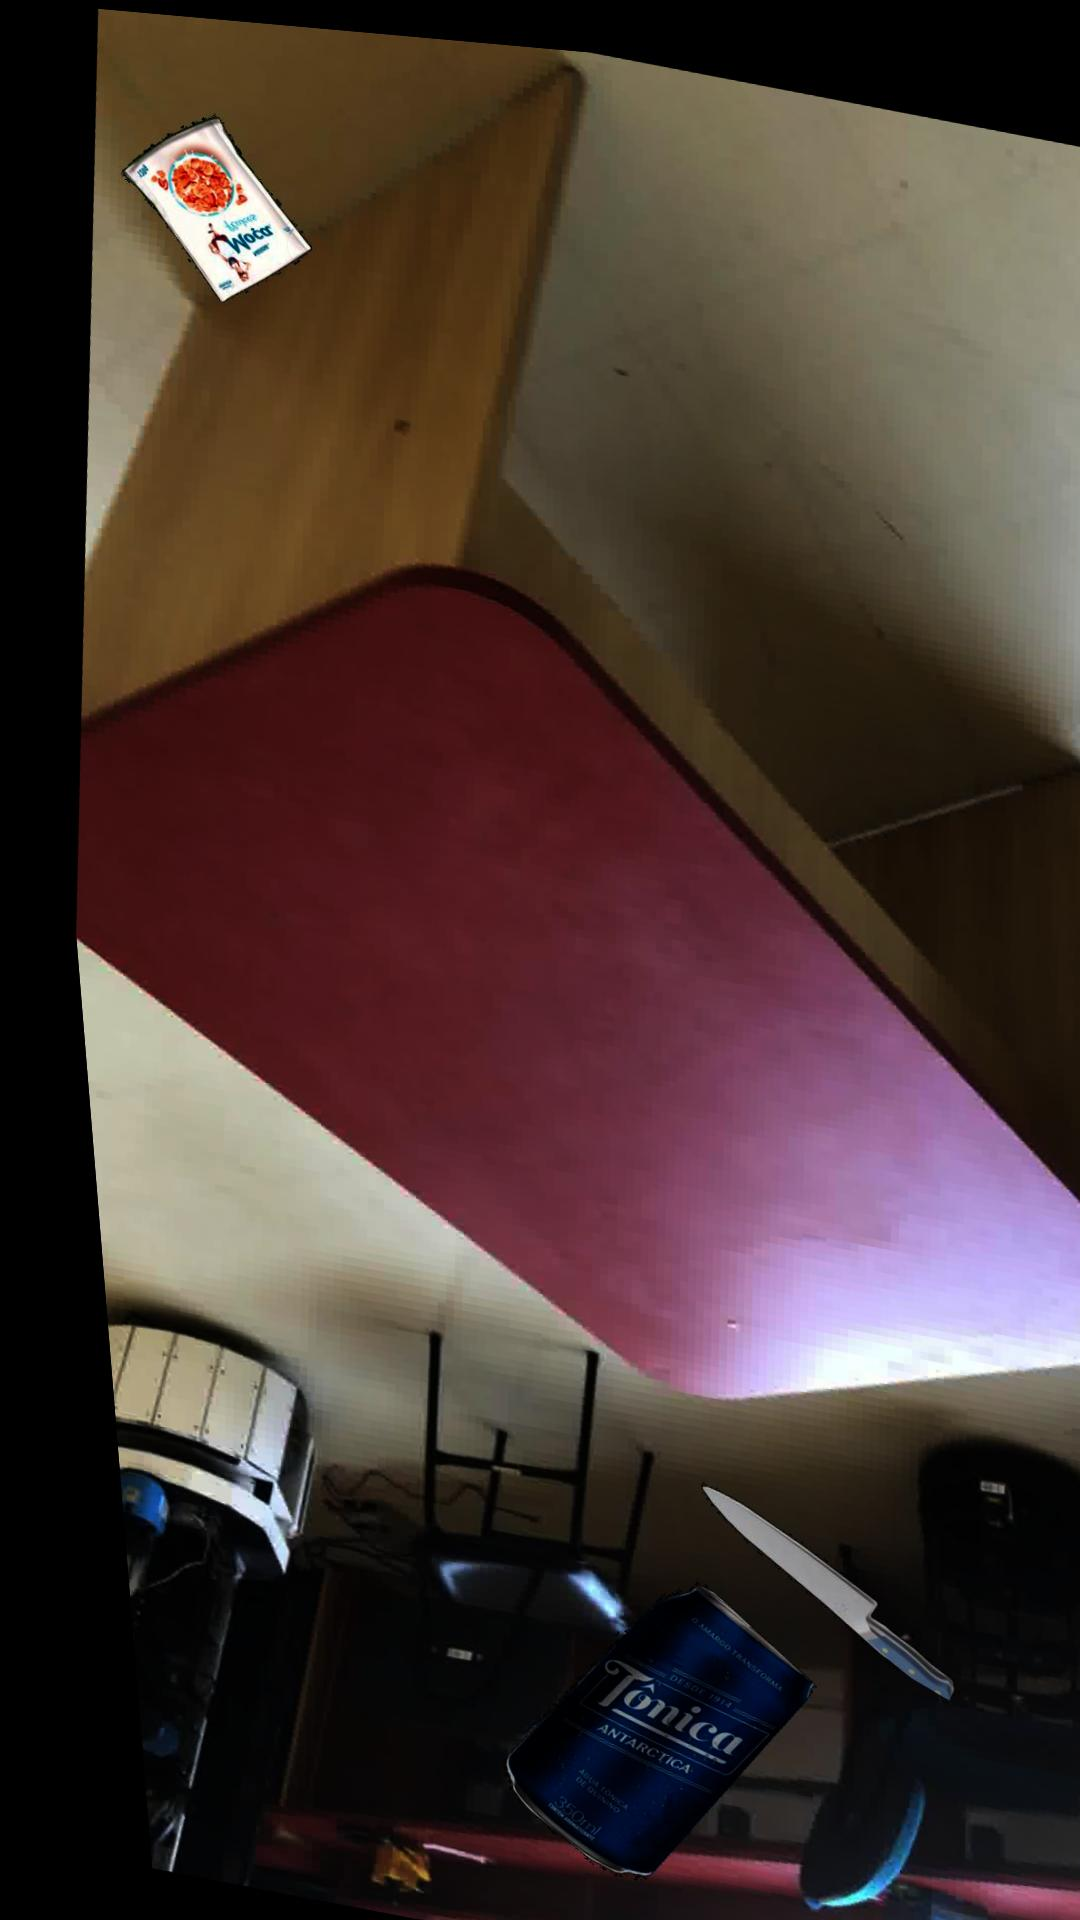corn flakes: (121, 115, 310, 301)
knife: (678, 1476, 928, 1687)
tonic: (477, 1576, 787, 1873)
